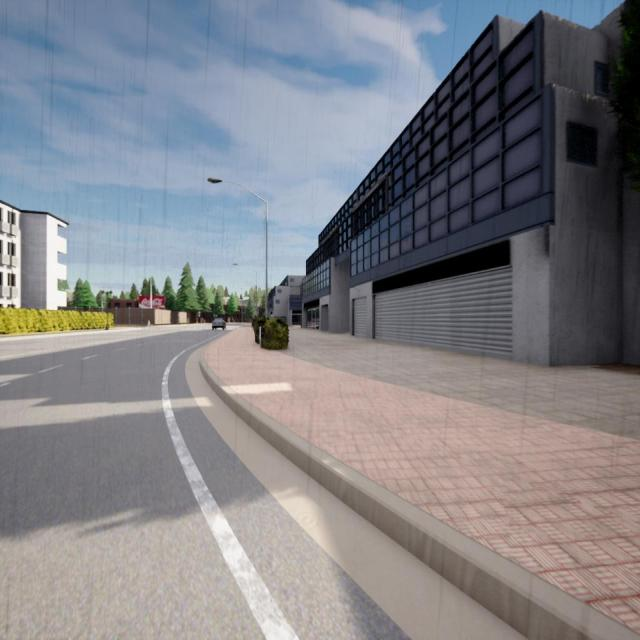Vehicle: (212, 318, 226, 330)
